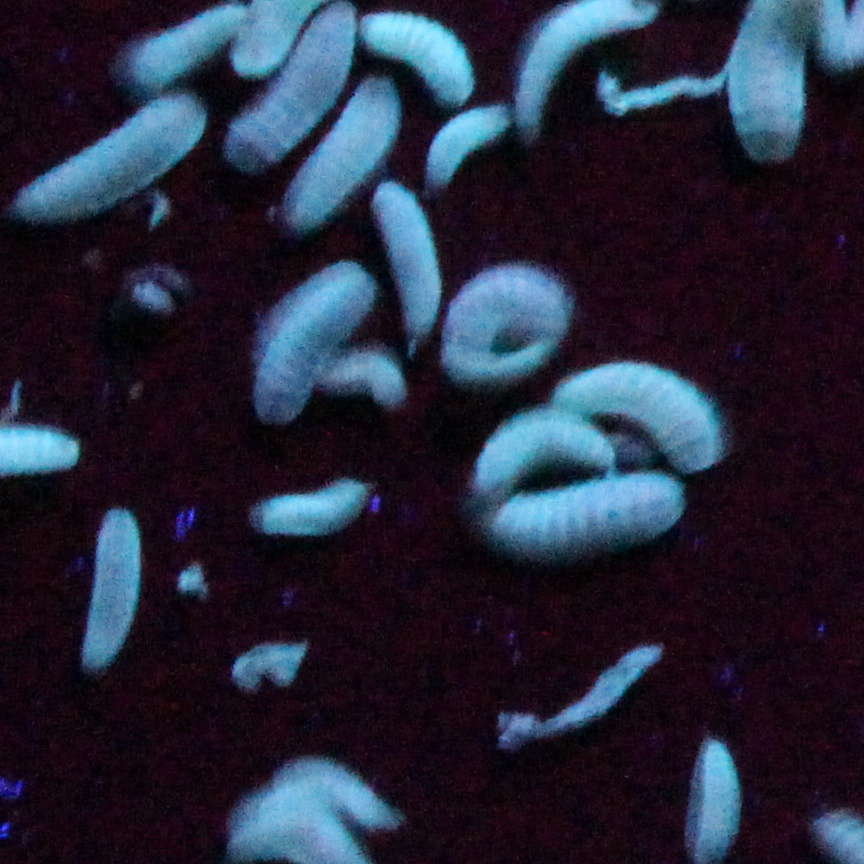larve: (3, 96, 207, 213), (222, 3, 359, 163), (557, 355, 732, 459), (255, 267, 372, 419), (280, 80, 397, 230), (488, 471, 688, 553), (361, 13, 480, 105), (120, 11, 251, 86), (474, 423, 615, 488), (82, 507, 138, 665), (424, 101, 511, 190), (251, 478, 368, 532)
